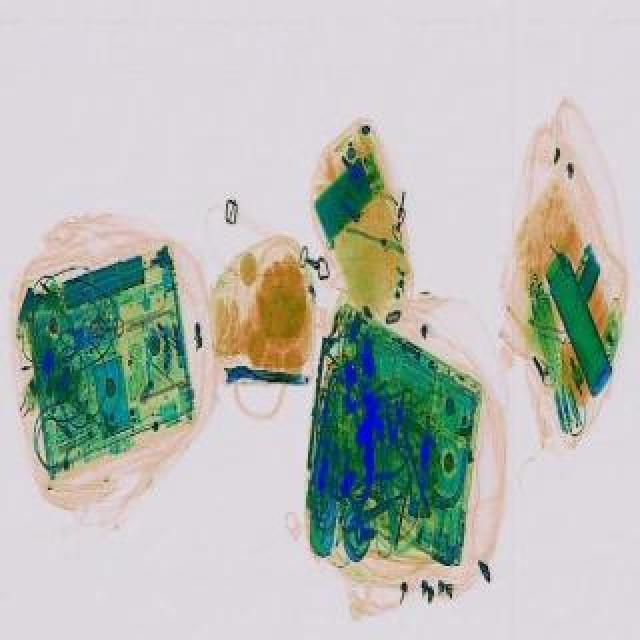wrench: (326, 432, 414, 516)
